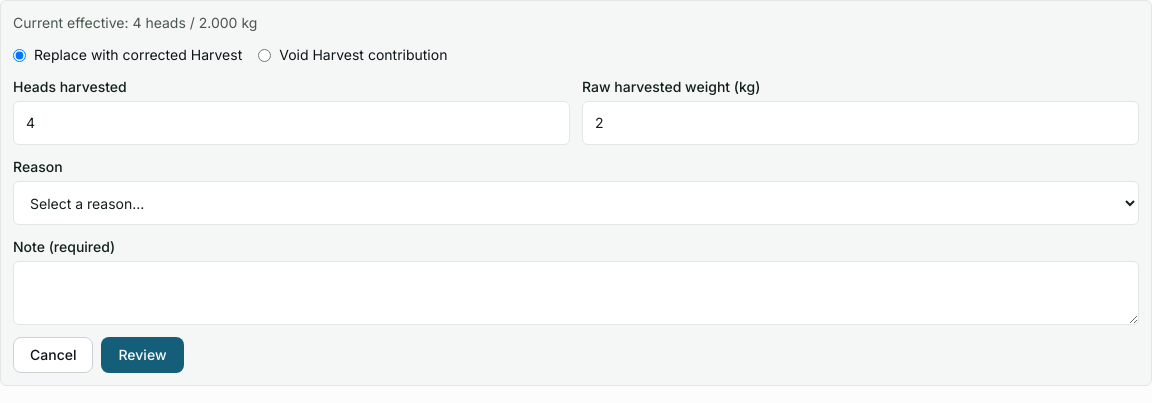
Test: CorrectHarvestForm biological population wording › current 4 -> corrected 6: consumes 2 additional plants
This screenshot has width=1152, height=403.
Replace the text in the number field labelled "Heads harvested" with "6": x=292, y=123 [13,101,570,145]
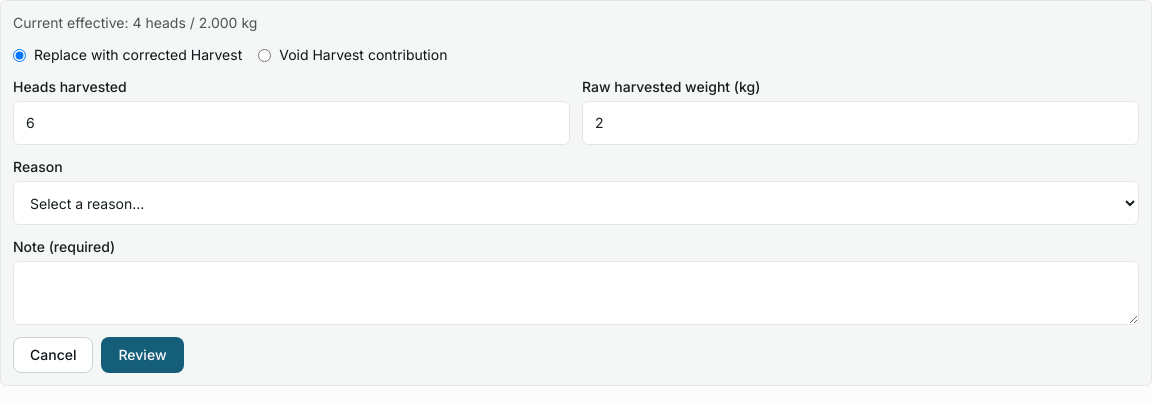
Replace the text in the number field labelled "Raw harvested weight (kg)" with "3.000": x=860, y=123 [582,101,1139,145]
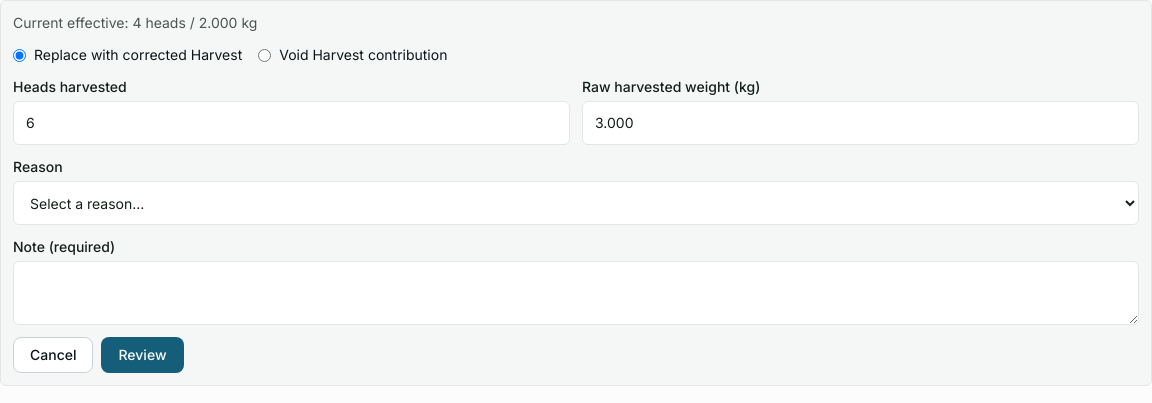
Select "Miscounted" in the dropdown labelled "Reason": x=576, y=203 [13,181,1139,225]
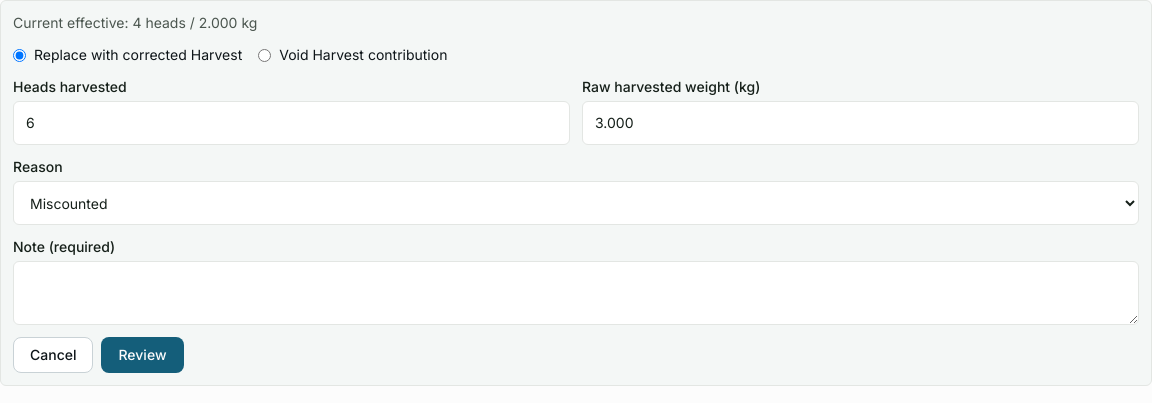
In the text box labelled "Note (required)": x=576, y=293 [13,261,1139,325], type "Recount"
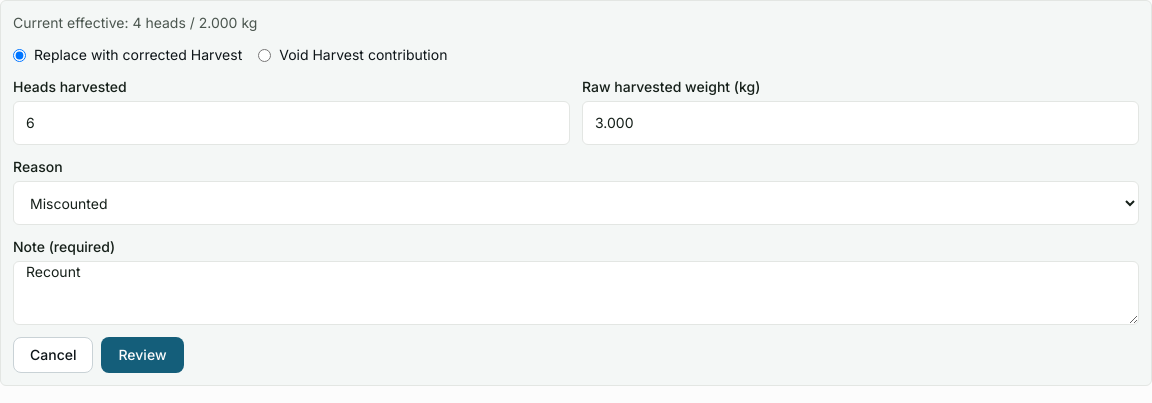
Click the button "Review": x=142, y=355 [102,337,184,373]
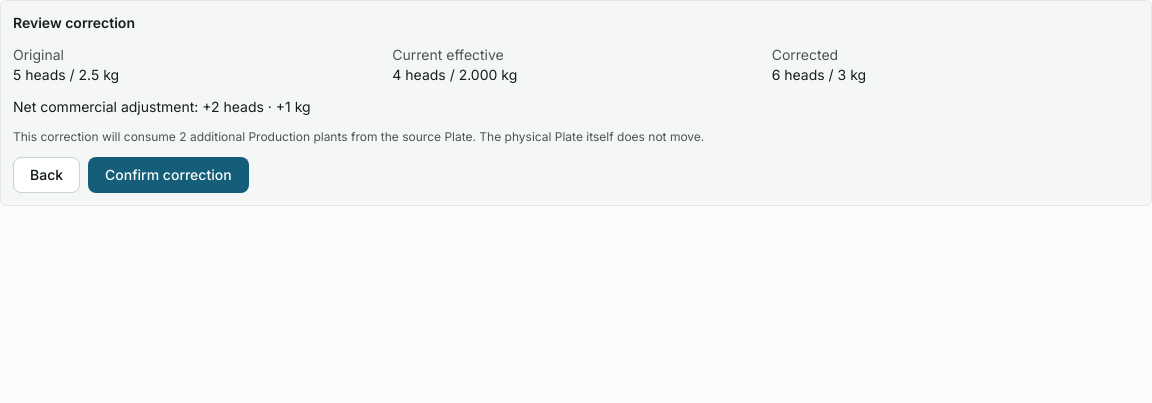
Now the text "This correction will consume 2 additional Production plants from the source Plate. The physical Plate itself does not mo" is shown, box [13,129,704,144]
